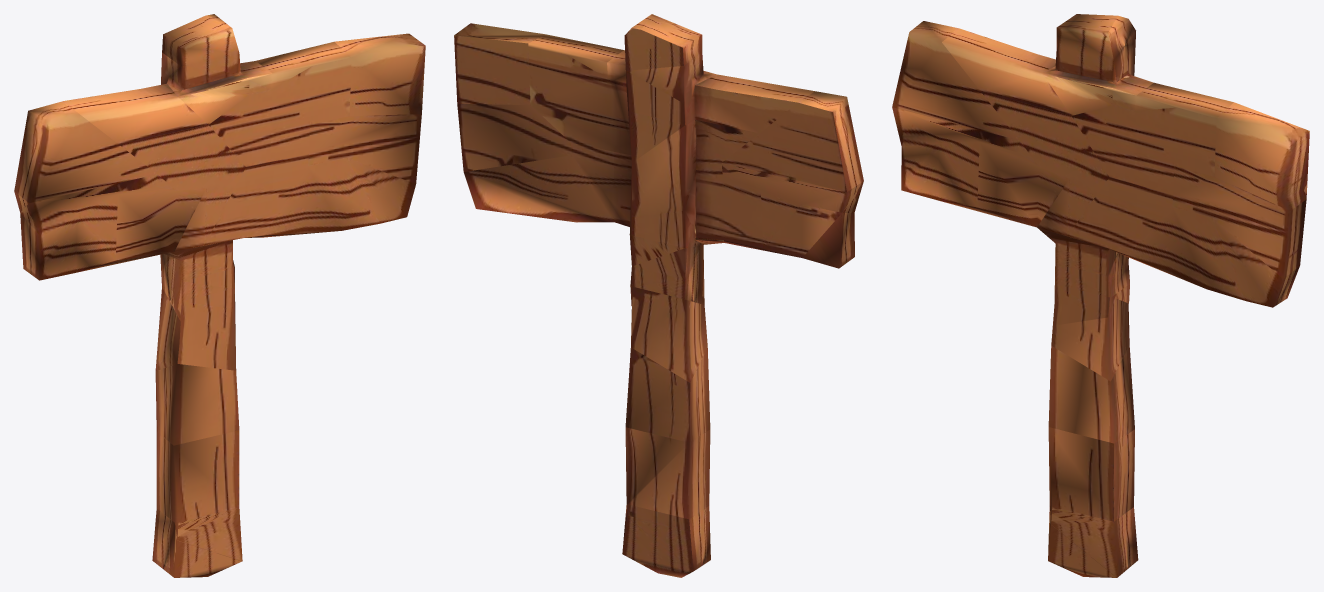
Rendered from wood_sign.glb.
3 renders of one model, left to right at view 1: azimuth 30°, elevation 25°; view 2: azimuth 150°, elevation 25°; view 3: azimuth 330°, elevation 25°, orthographic.
Size of the model in its own units: 1.45 by 1.91 by 0.1604.
1 material, 1 textured.
